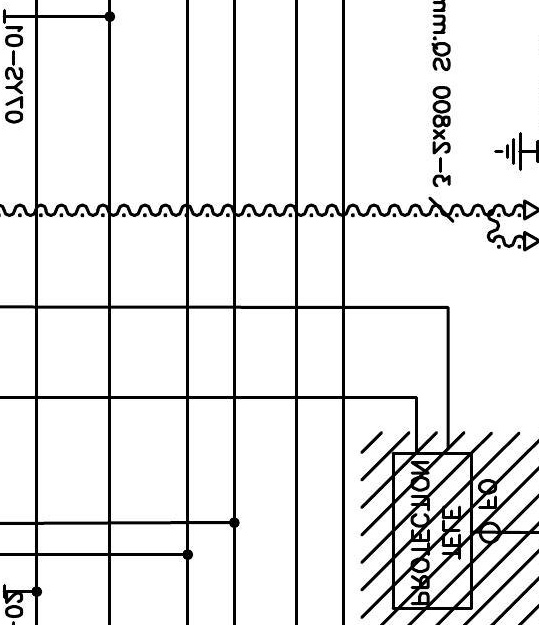tele_protection: (389, 449, 476, 613)
